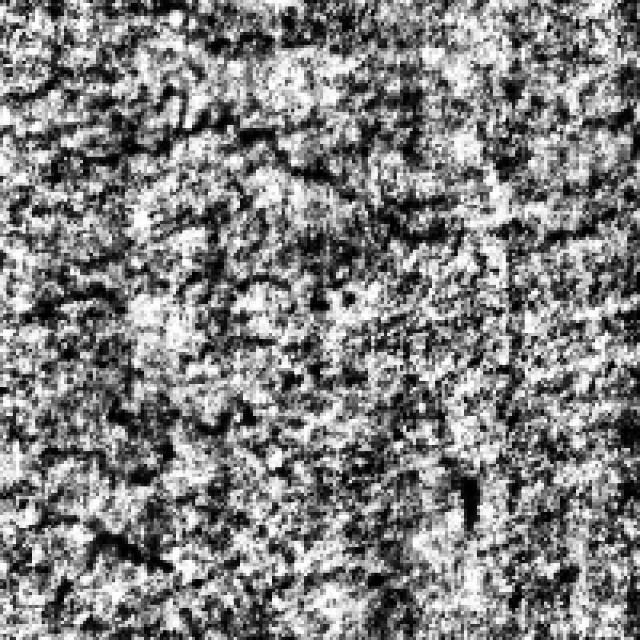Pitted_Surface: (26, 60, 602, 308), (0, 355, 266, 595)
